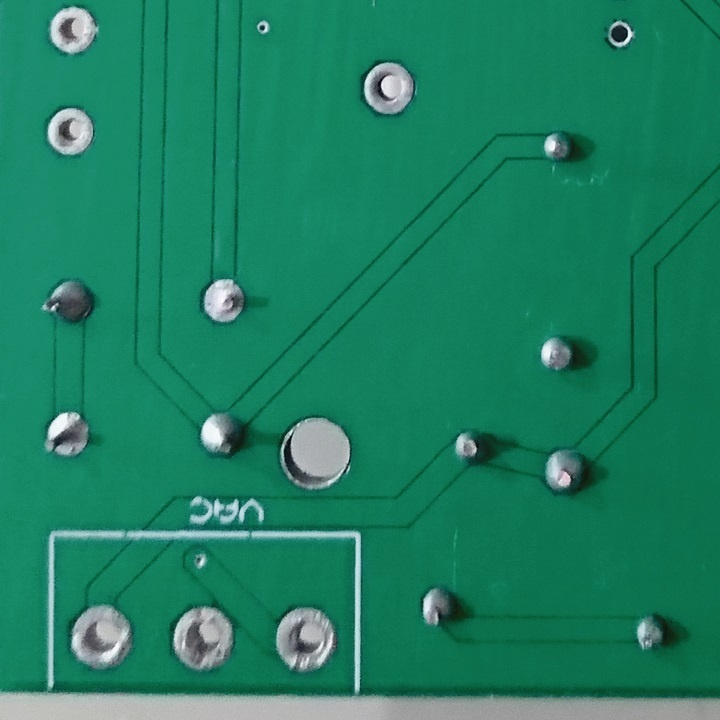F: (168, 603, 241, 674), (272, 603, 340, 678), (67, 603, 137, 672), (358, 59, 420, 120), (39, 406, 96, 469), (43, 104, 99, 157), (43, 6, 100, 56), (198, 273, 244, 326), (603, 17, 639, 54)
